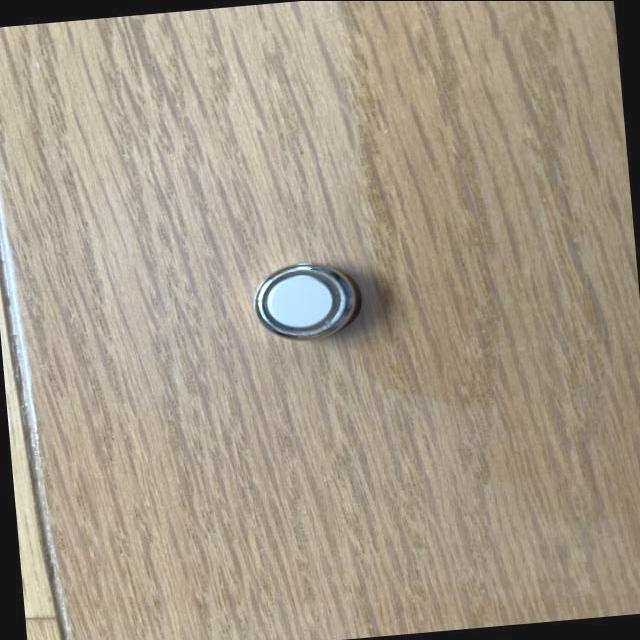COIN: (250, 256, 364, 347)
